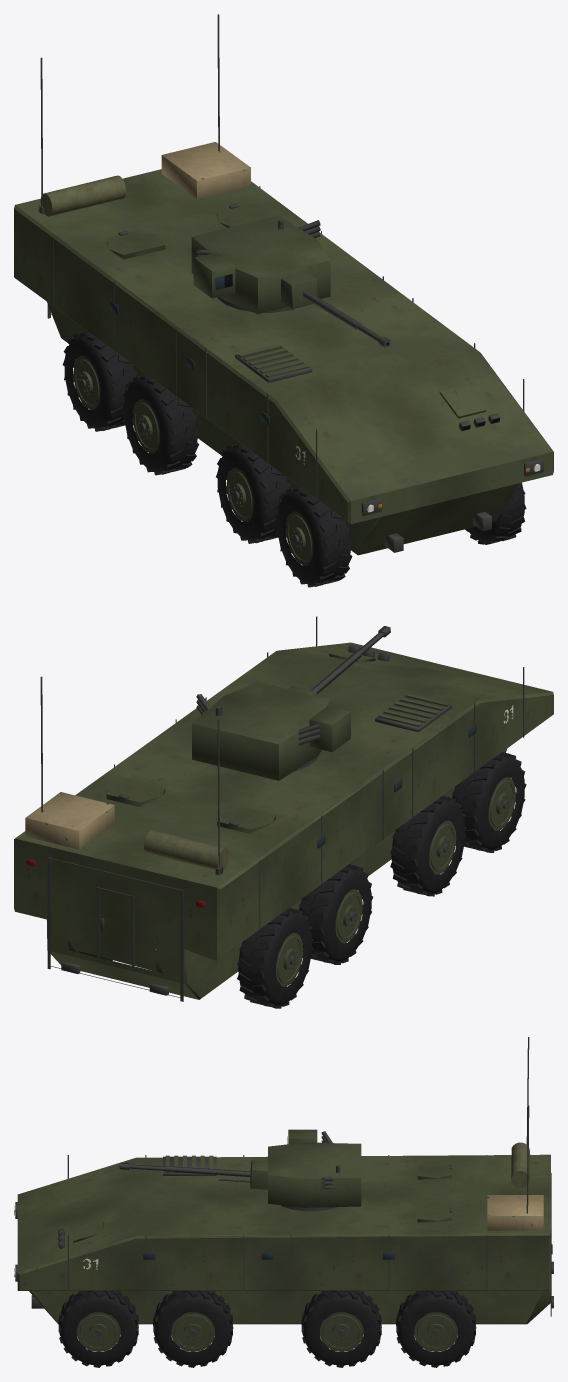
Rendered from apc-8x8_card.glb.
The picture shows the model from 3 angles, top to bottom: view 1: azimuth 30°, elevation 25°; view 2: azimuth 150°, elevation 25°; view 3: azimuth 270°, elevation 25°; orthographic projection. The views are drawn at different scales.
Visible parts, largest first — view 1: Hull, Turret, Wheel_3R, Wheel_1R, Wheel_2R, Wheel_4R, Gun, Wheel_1L; view 2: Hull, Turret, Wheel_2R, Wheel_4R, Wheel_1R, Wheel_3R, Gun; view 3: Hull, Turret, Wheel_3L, Wheel_1L, Wheel_2L, Wheel_4L, Gun.
Part boxes in pixels (left/top/right/bottom): Hull: left=14, top=14, right=553, bottom=555; Turret: left=191, top=215, right=330, bottom=314; Wheel_3R: left=122, top=374, right=198, bottom=475; Wheel_1R: left=275, top=486, right=352, bottom=587; Wheel_2R: left=216, top=443, right=289, bottom=543; Wheel_4R: left=62, top=331, right=136, bottom=431; Gun: left=281, top=272, right=390, bottom=347; Wheel_1L: left=465, top=482, right=526, bottom=544; Hull: left=14, top=616, right=553, bottom=1001; Turret: left=192, top=682, right=350, bottom=780; Wheel_2R: left=390, top=795, right=466, bottom=896; Wheel_4R: left=237, top=908, right=313, bottom=1008; Wheel_1R: left=452, top=752, right=526, bottom=852; Wheel_3R: left=298, top=864, right=372, bottom=964; Gun: left=288, top=626, right=390, bottom=696; Hull: left=14, top=1037, right=553, bottom=1324; Turret: left=268, top=1129, right=361, bottom=1211; Wheel_3L: left=301, top=1291, right=381, bottom=1367; Wheel_1L: left=58, top=1291, right=138, bottom=1367; Wheel_2L: left=153, top=1291, right=233, bottom=1367; Wheel_4L: left=396, top=1291, right=476, bottom=1367; Gun: left=119, top=1160, right=267, bottom=1189.
Bounding box in the file's own units: 2.88 × 4.22 × 8.
11 materials, 6 textured.
